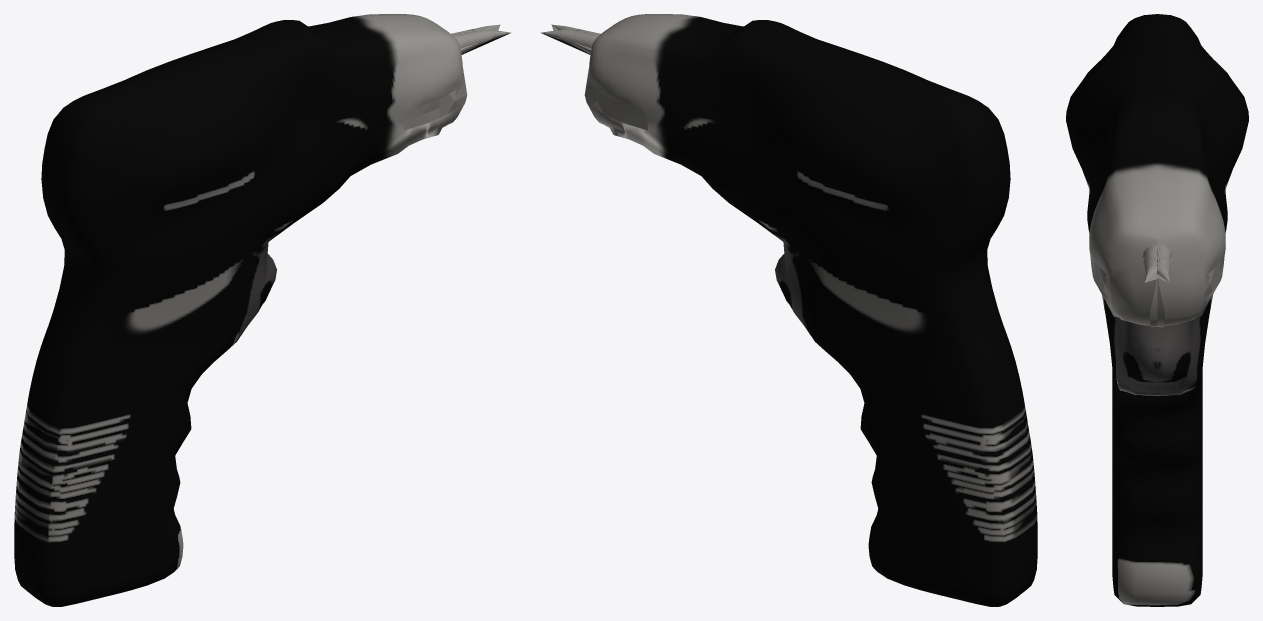
Rendered from arma.fbx.
The picture shows the model from 3 angles, left to right: view 1: azimuth 30°, elevation 25°; view 2: azimuth 150°, elevation 25°; view 3: azimuth 270°, elevation 25°; orthographic projection. The views are drawn at different scales.
Visible parts, largest first — view 1: Plano; view 2: Plano; view 3: Plano.
Part boxes in pixels (x1,y1,x2,y2): Plano: (14, 14, 511, 606); Plano: (540, 14, 1037, 606); Plano: (1066, 14, 1248, 606).
Size of the model in its own units: 4.2 by 4.27 by 1.2.
1 material, 1 textured.
